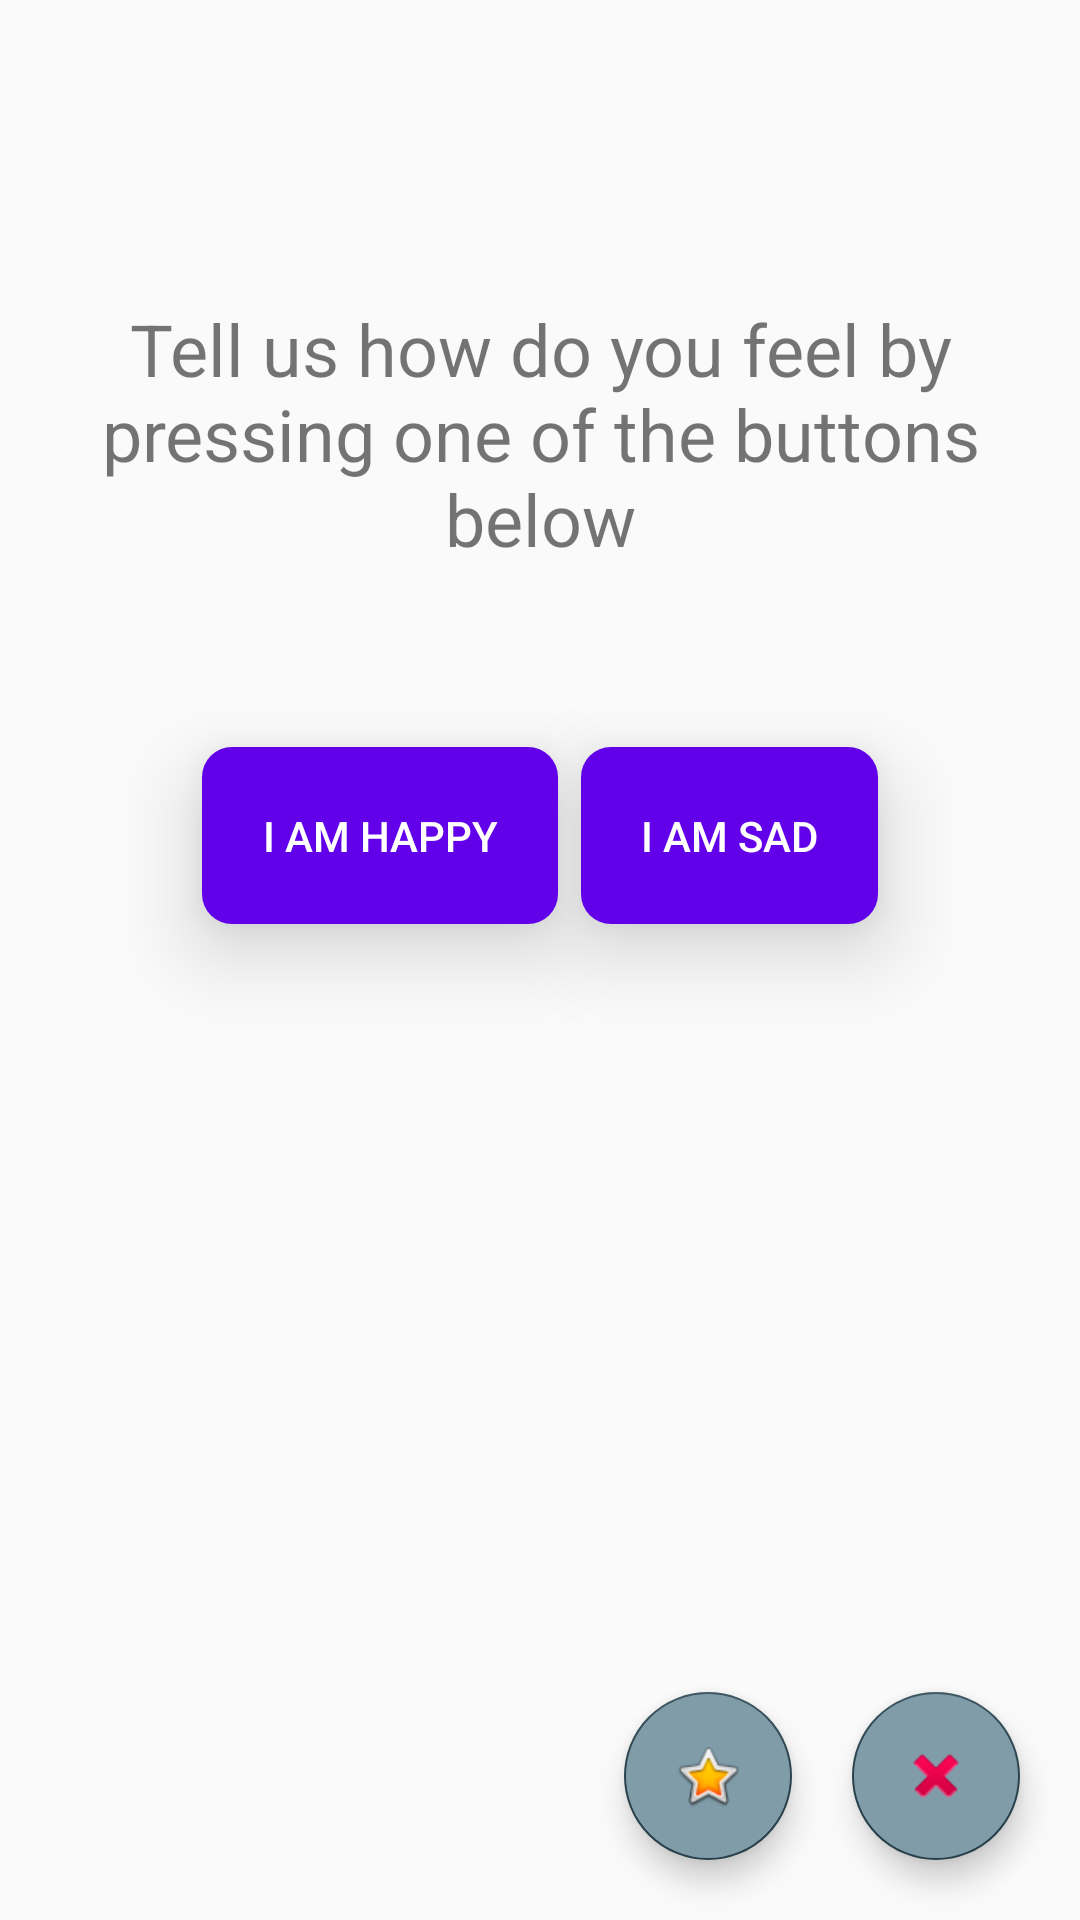

Icon bounding boxes for this 1080 x 1920 phone screenshot, format (left=x1, top=y1, right=x2, bottom=y2):
star on: (left=624, top=1692, right=792, bottom=1860)
